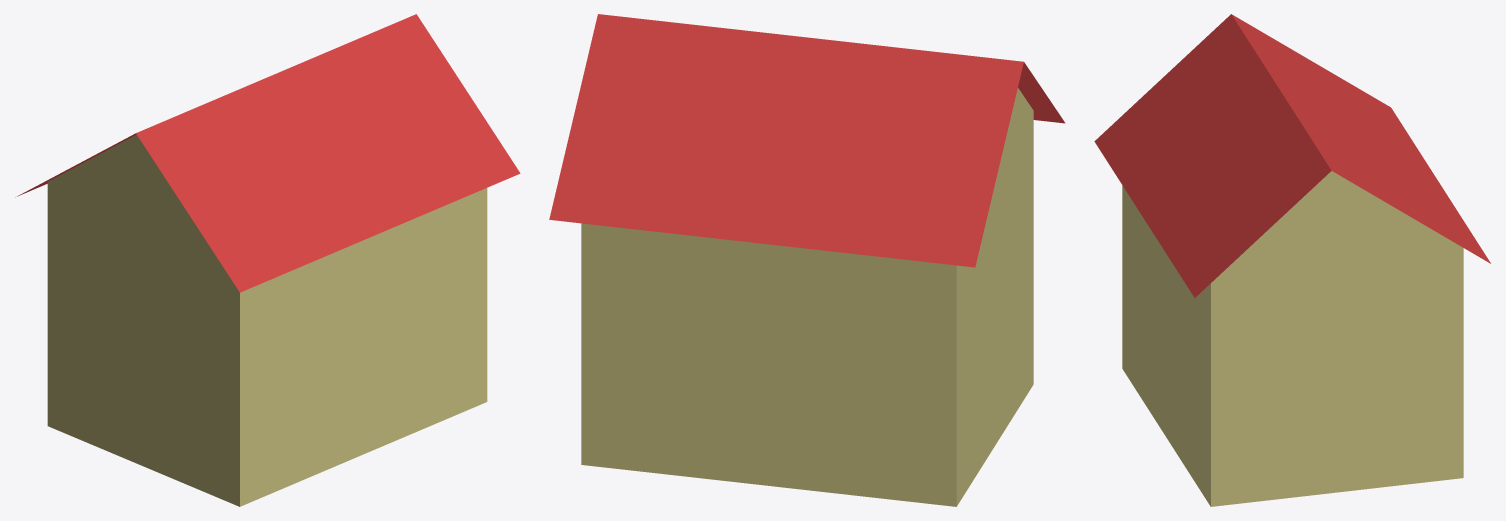
The picture shows the model from 3 angles, left to right: view 1: azimuth 30°, elevation 25°; view 2: azimuth 150°, elevation 25°; view 3: azimuth 270°, elevation 25°; orthographic projection. The views are drawn at different scales.
Visible parts, largest first — view 1: group_5, group_3, group_4; view 2: group_5, group_3, group_4; view 3: group_5, group_3, group_4.
Part boxes in pixels (x1,y1,x2,y2): group_5: [47, 134, 487, 506]; group_3: [15, 21, 486, 288]; group_4: [136, 14, 520, 292]; group_5: [581, 88, 1033, 506]; group_3: [570, 14, 1065, 260]; group_4: [549, 14, 1023, 267]; group_5: [1122, 171, 1463, 506]; group_3: [1122, 14, 1463, 267]; group_4: [1094, 14, 1490, 297].
Bounding box in the file's own units: 14.83 × 13.05 × 12.05.
